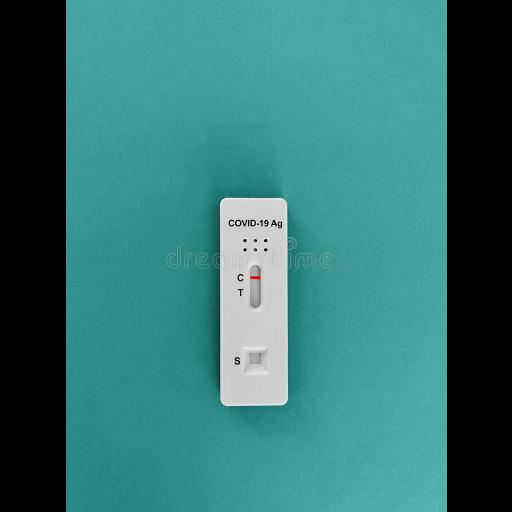Neg: (220, 198, 288, 404)
